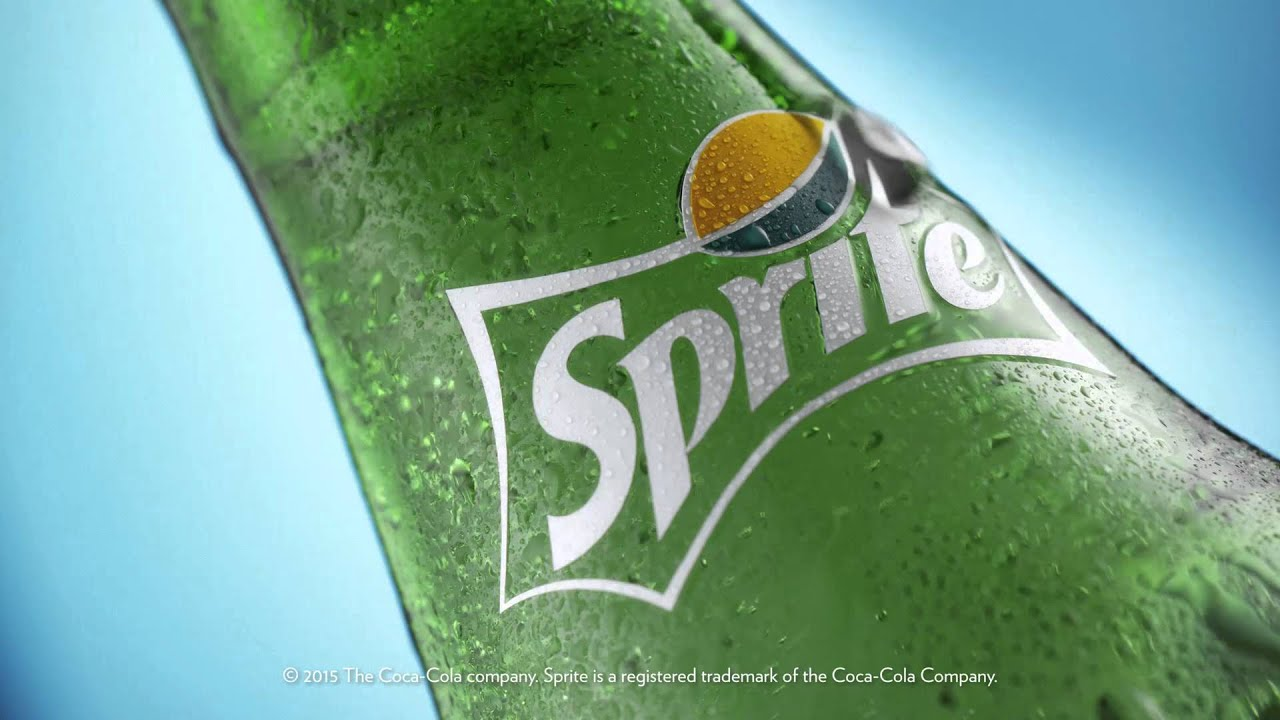sprite: (526, 156, 1005, 570), (557, 156, 1005, 570)
